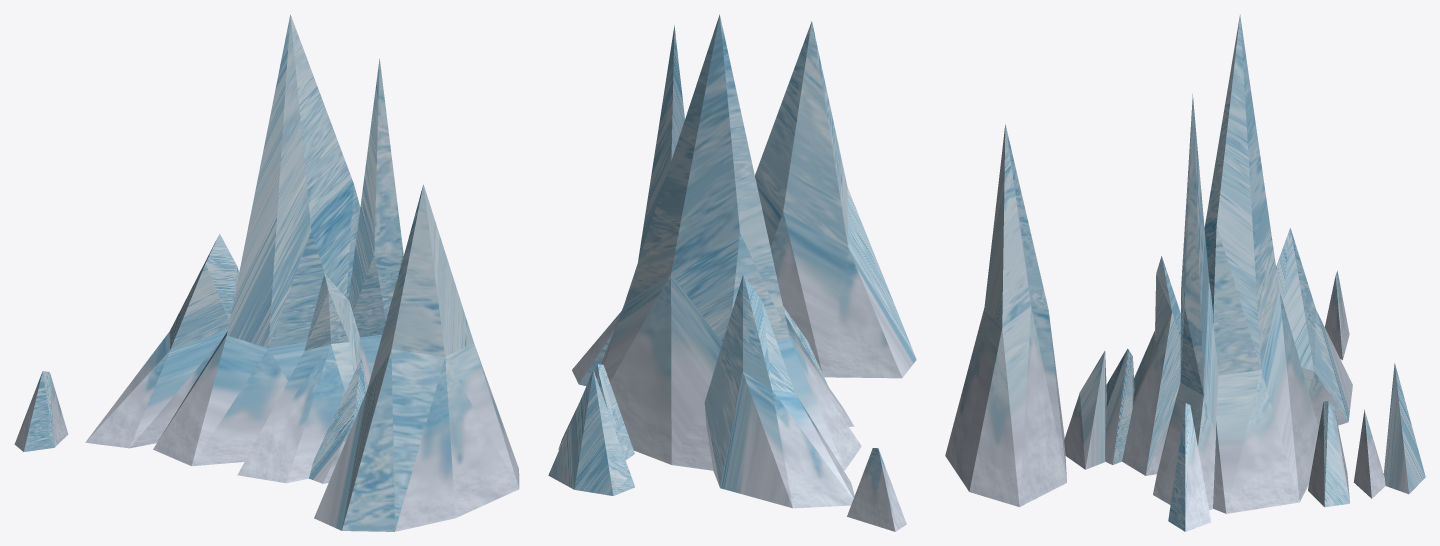
File: stalagmite.obj
3 views of the same model, side by side, from view 1: azimuth 30°, elevation 25°; view 2: azimuth 150°, elevation 25°; view 3: azimuth 270°, elevation 25° (orthographic). The views are drawn at different scales.
Parts seen in each view (by area): view 1: Stalagmite_Cylinder.010; view 2: Stalagmite_Cylinder.010; view 3: Stalagmite_Cylinder.010.
Boxes of the visible parts, x1,y1,x2,y2 form: Stalagmite_Cylinder.010: (14,14,519,531); Stalagmite_Cylinder.010: (548,14,916,531); Stalagmite_Cylinder.010: (945,14,1425,531).
Size of the model in its own units: 1 by 1 by 1.
